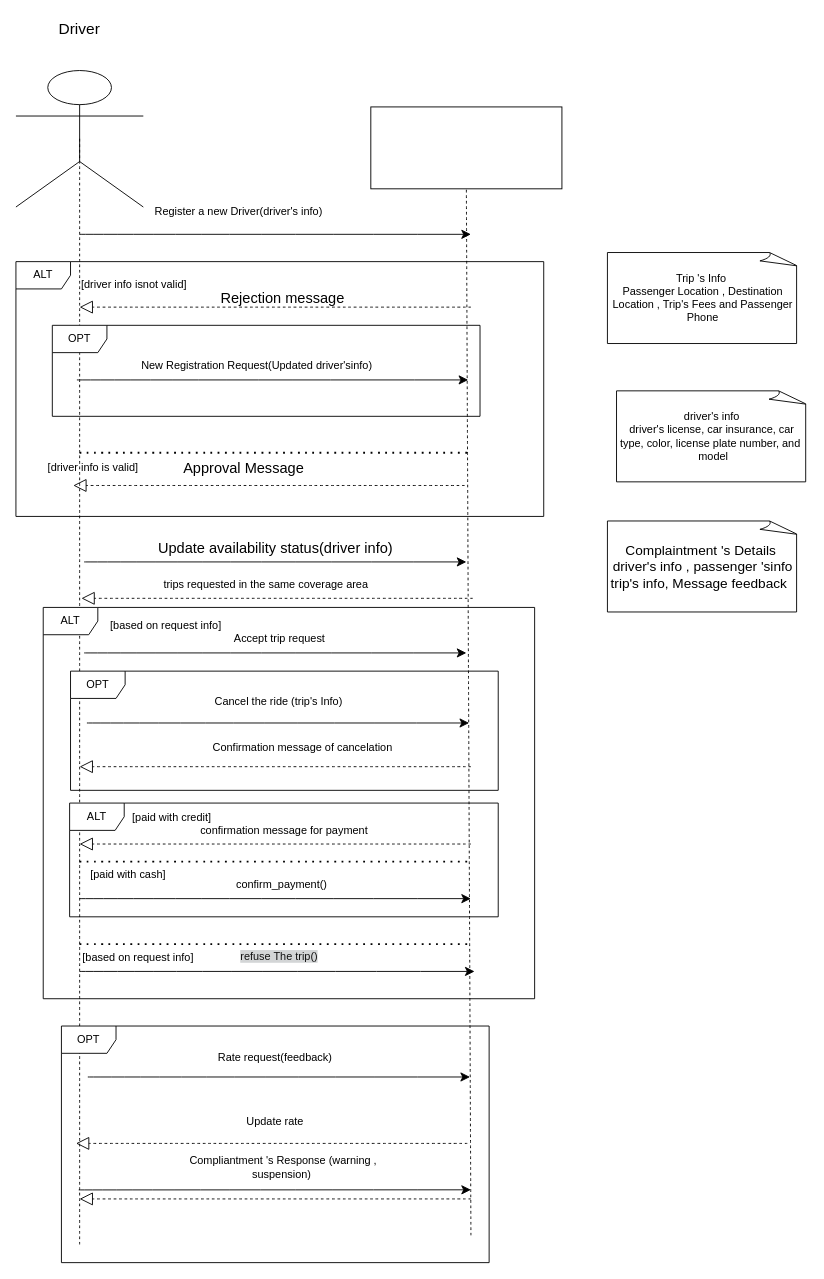
The diagram is 824 pixels wide and 1279 high, and some of its shapes have lost their labels. Here are the shapes that lost their labels. From the top down, the centre of each, then its label:
the point at 79,138: Actor
the point at 466,147: :System
